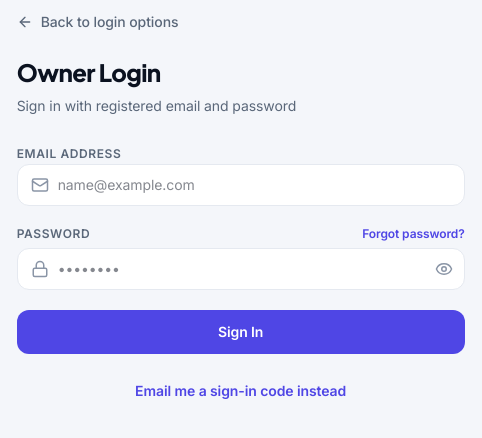
LoginForm › an empty password is still rejected on the client
Type "owner@example.com" into the field labelled "Email Address" at x=241, y=185, box [17,164,465,206]
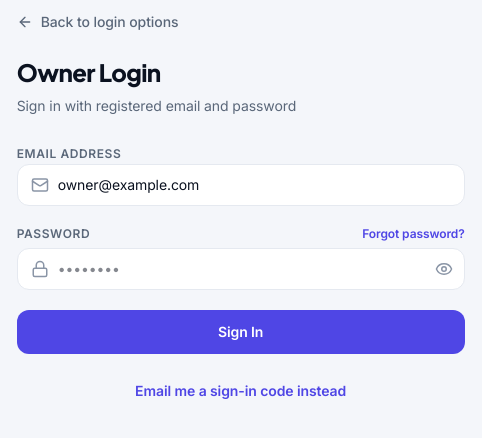
Click the button "Sign In" at x=241, y=332, box [17,310,465,354]
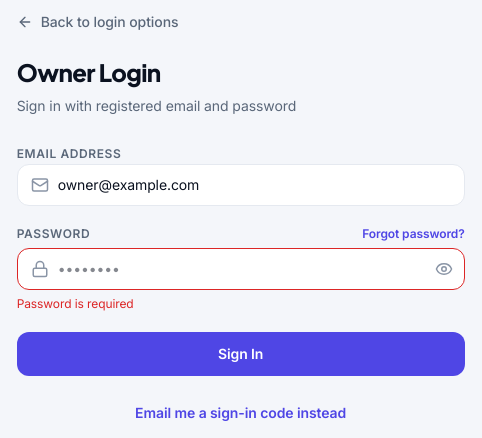
Expected: the text "Password is required" is shown, [17,296,134,311]
